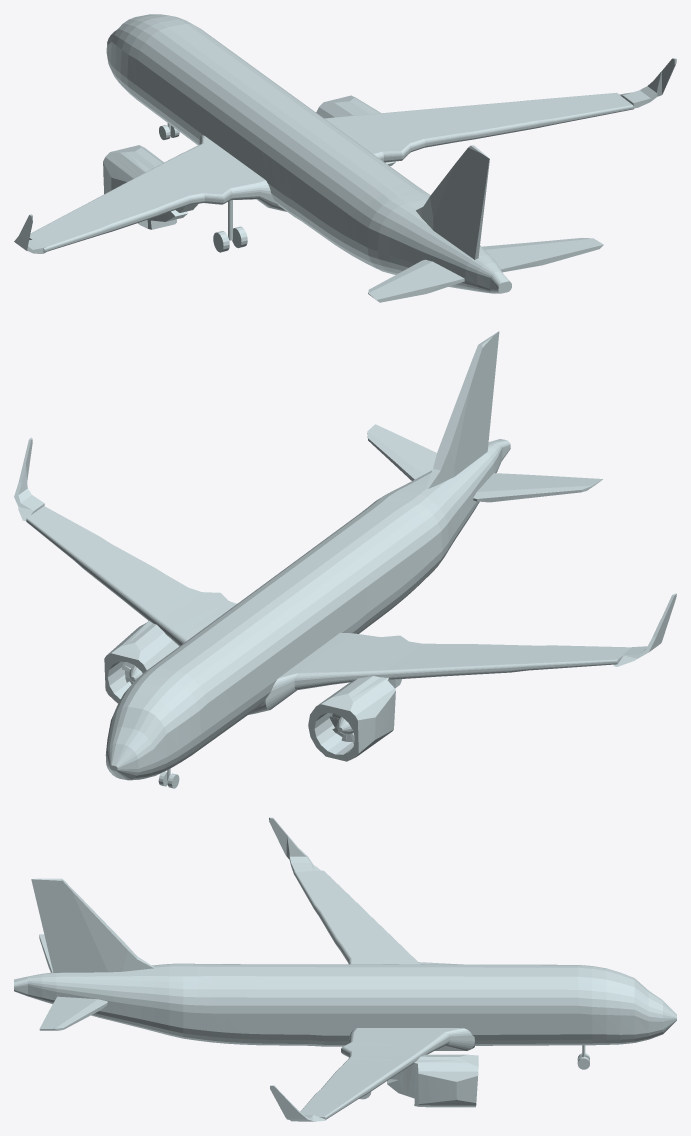
The picture shows the model from 3 angles, top to bottom: view 1: azimuth 30°, elevation 25°; view 2: azimuth 150°, elevation 25°; view 3: azimuth 270°, elevation 25°; orthographic projection. The views are drawn at different scales.
Visible parts, largest first — view 1: Aircraft visual hull, Landing gear; view 2: Aircraft visual hull; view 3: Aircraft visual hull.
Boxes of the visible parts, <box> form: Aircraft visual hull: <box>14,14,676,302</box>; Landing gear: <box>159,123,247,252</box>; Aircraft visual hull: <box>14,331,676,780</box>; Aircraft visual hull: <box>14,817,676,1121</box>.
Bounding box in the file's own units: 36.03 × 11.68 × 37.73.
